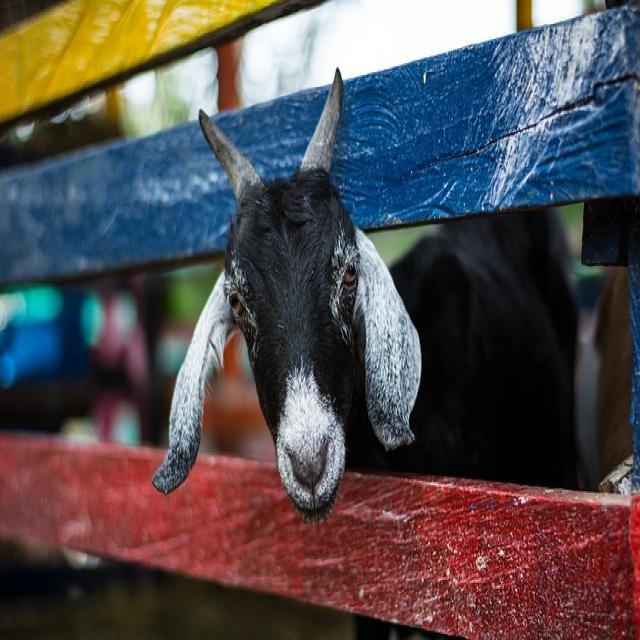goat: (152, 72, 633, 523)
